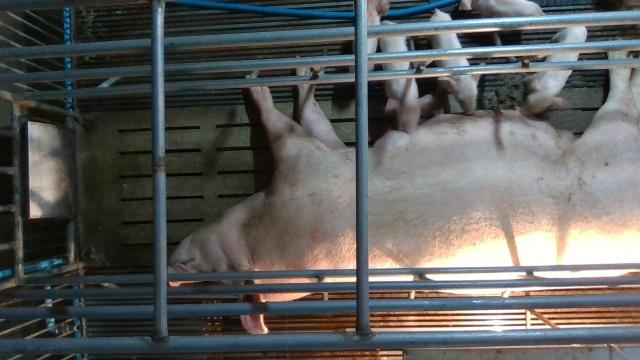piglet: (378, 21, 432, 134), (429, 10, 485, 114), (524, 27, 587, 115), (350, 0, 389, 73), (458, 0, 546, 18)
sow-sleep-lactate: (167, 48, 640, 333)
